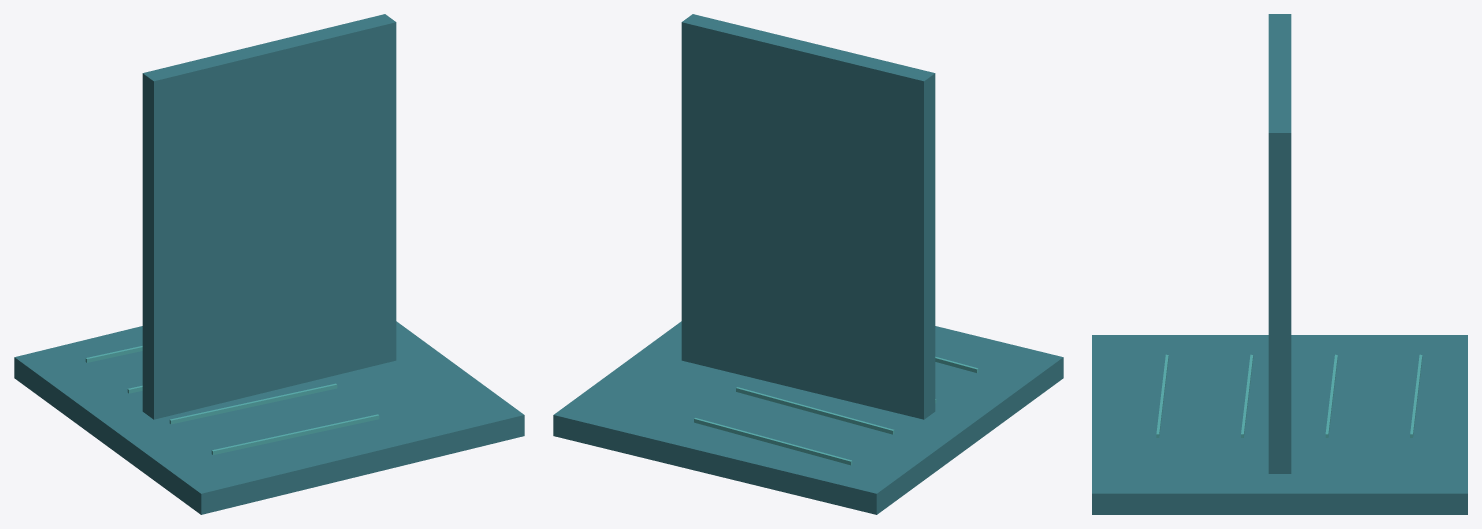
Rendered from terrain-waterfall.lod0.glb.
3 views of the same model, side by side, from view 1: azimuth 30°, elevation 25°; view 2: azimuth 150°, elevation 25°; view 3: azimuth 270°, elevation 25° (orthographic).
Parts seen in each view (by area): view 1: terrain-waterfall__body; view 2: terrain-waterfall__body; view 3: terrain-waterfall__body.
Part boxes in pixels (left/top/right/bottom): terrain-waterfall__body: left=14, top=14, right=524, bottom=514; terrain-waterfall__body: left=553, top=14, right=1063, bottom=514; terrain-waterfall__body: left=1092, top=14, right=1467, bottom=514.
Bounding box in the file's own units: 2 × 2.12 × 2.
